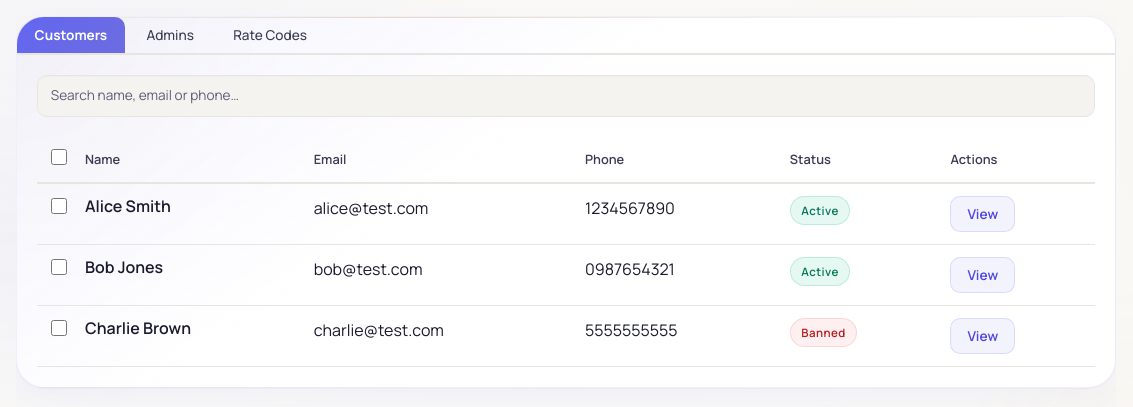
Test: AdminUsersConfig Page › switches to Admins tab and shows admin list
Expected: the text "Alice Smith" is shown, [85,195,171,217]
Click the button "Admins" at (170, 35), box [129,17,212,53]
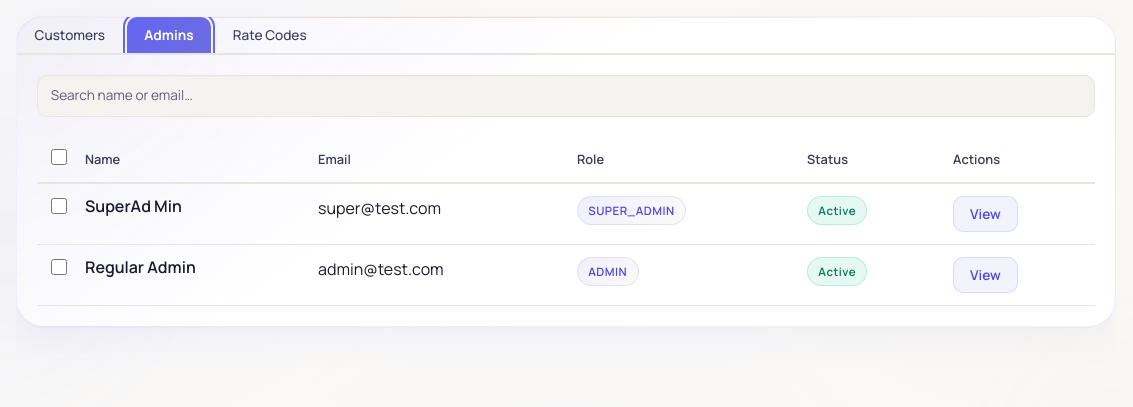
Expected: the text "SuperAd Min" is shown, [85,195,182,217]
Expected: the text "Regular Admin" is shown, [85,256,196,278]
